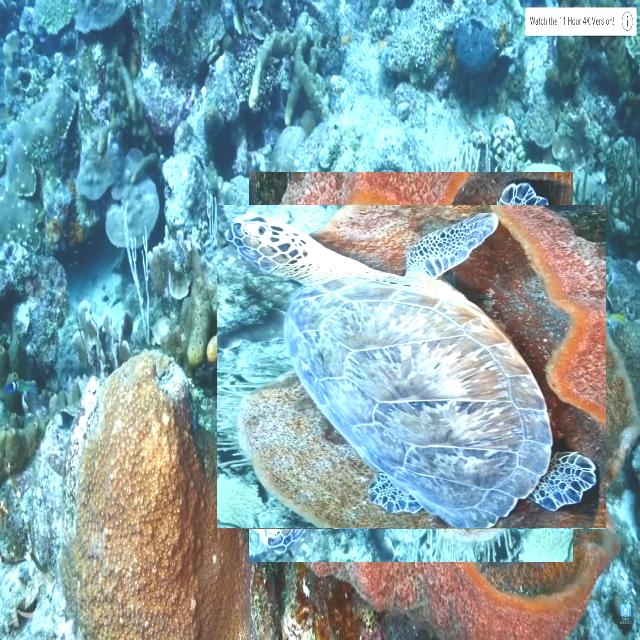Sea turtle: (233, 189, 590, 545)
